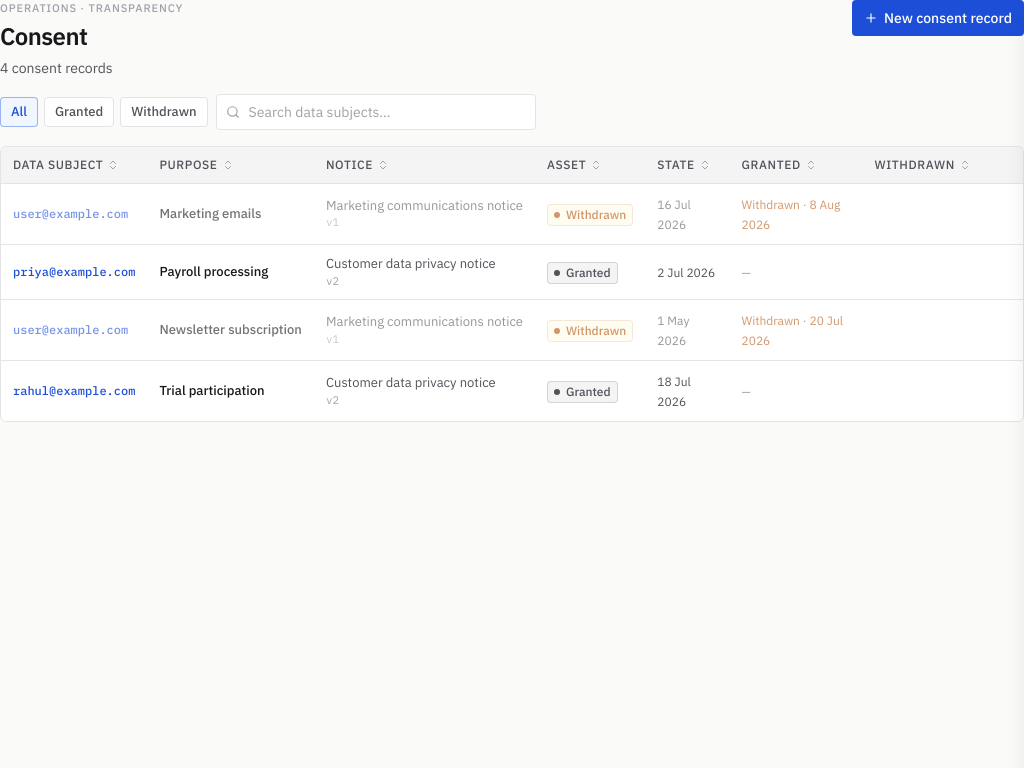
it: ConsentView (§9.5) › creates a consent record from the drawer
The image size is (1024, 768).
Expected: the text "4 consent records" is shown, [0,59,113,77]
Click the button "New consent record" at (938, 18), box [852,0,1023,36]
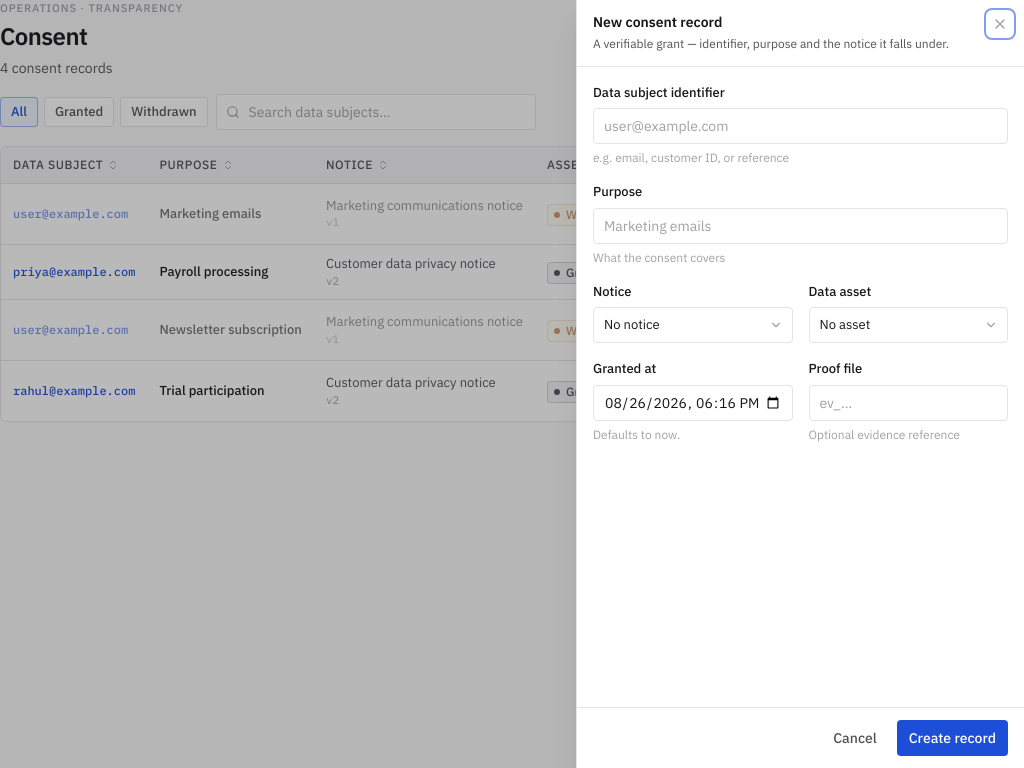
Type "amit@example.com" into the field labelled "Data subject identifier" at (800, 126), box [593,108,1008,144]
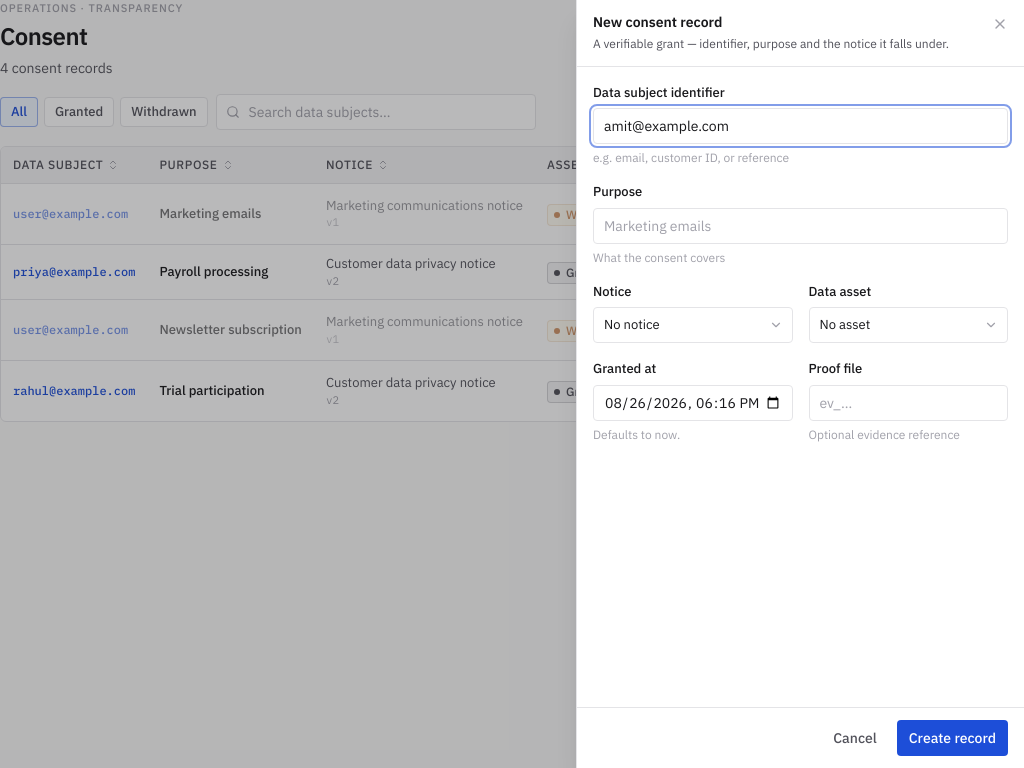
Type "Product updates" into the field labelled "Purpose" at (800, 226), box [593,208,1008,244]
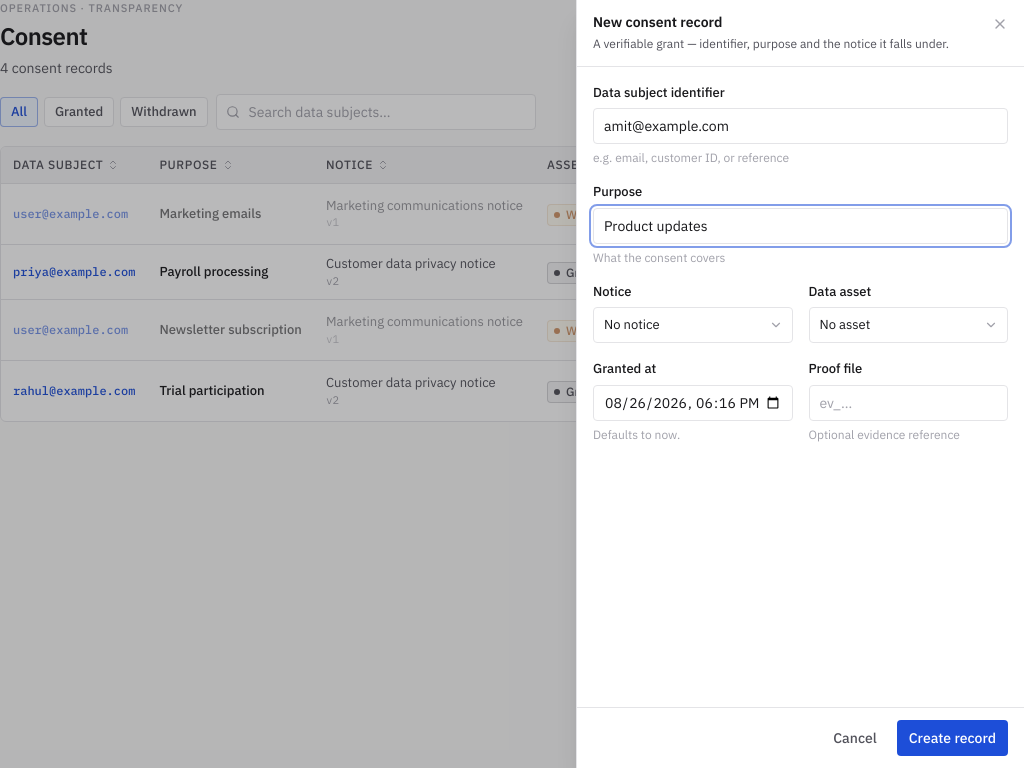
Select "Marketing communications notice · v1" in the dropdown labelled "Notice" at (693, 325), box [593,307,792,343]
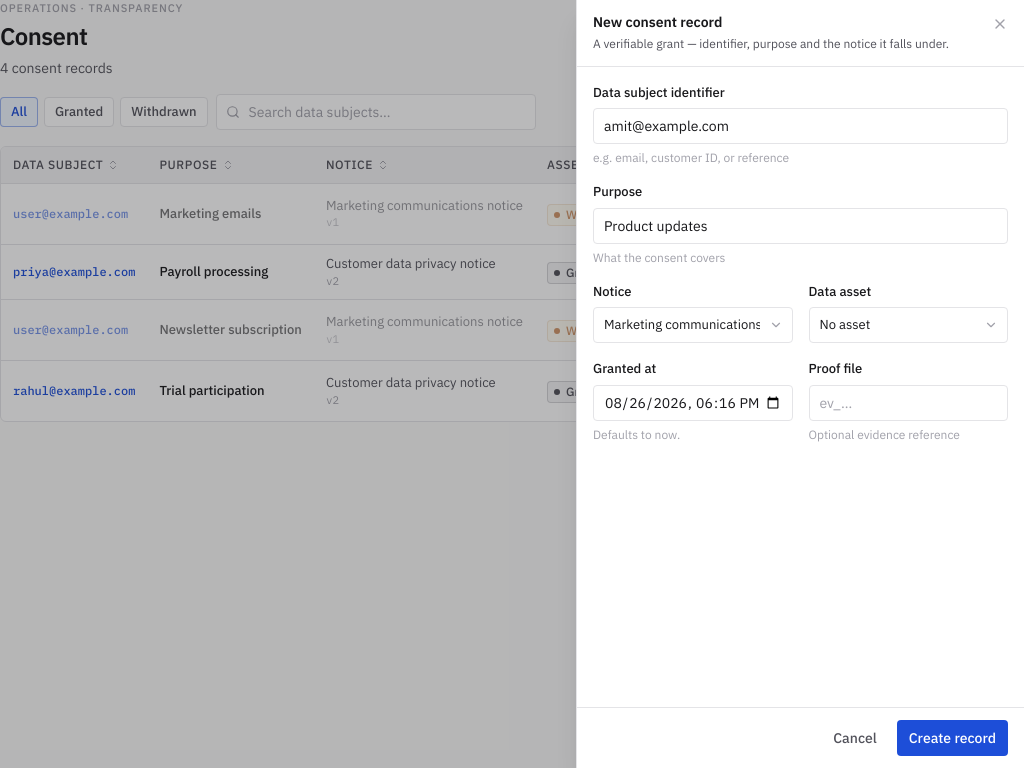
Click the button "Create record" at (952, 738), box [897,720,1008,756]
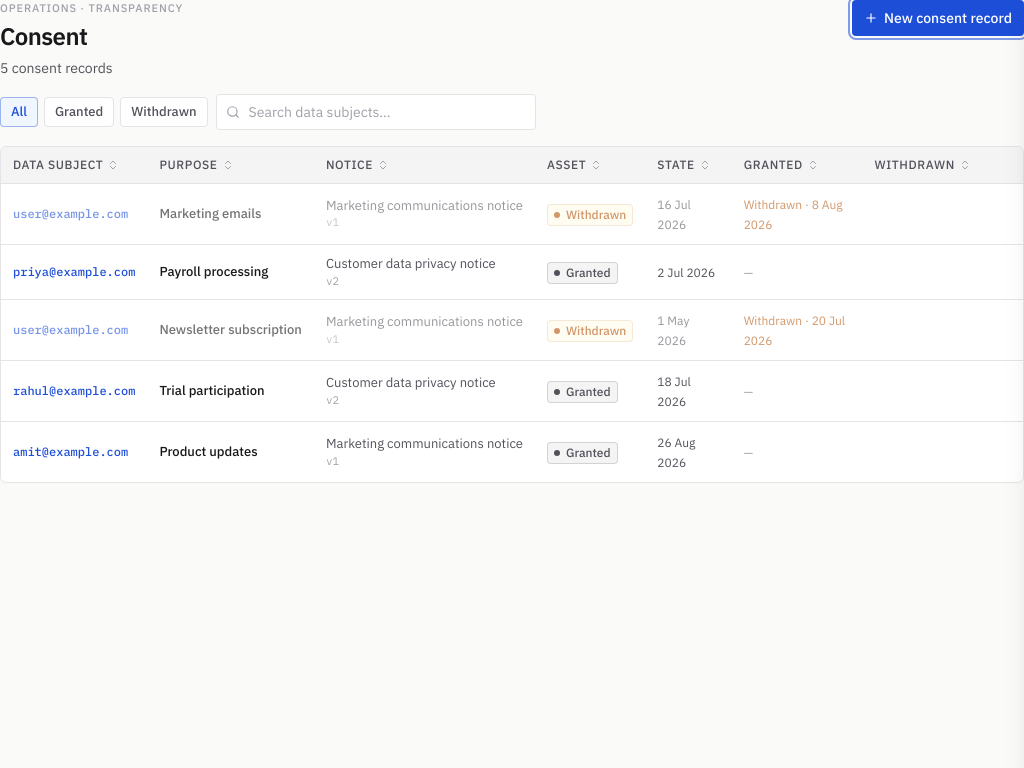
Now the text "amit@example.com" is shown, box [13,444,135,460]
Now the text "5 consent records" is shown, box [0,59,113,77]
